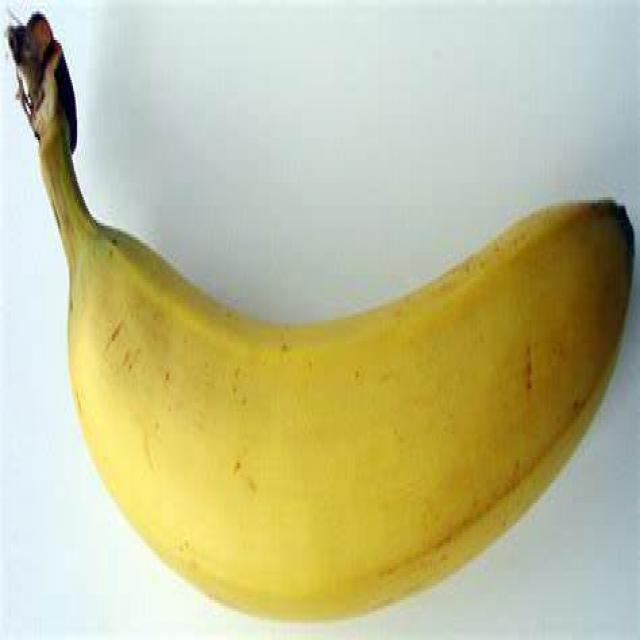Banana: (9, 12, 637, 620)
